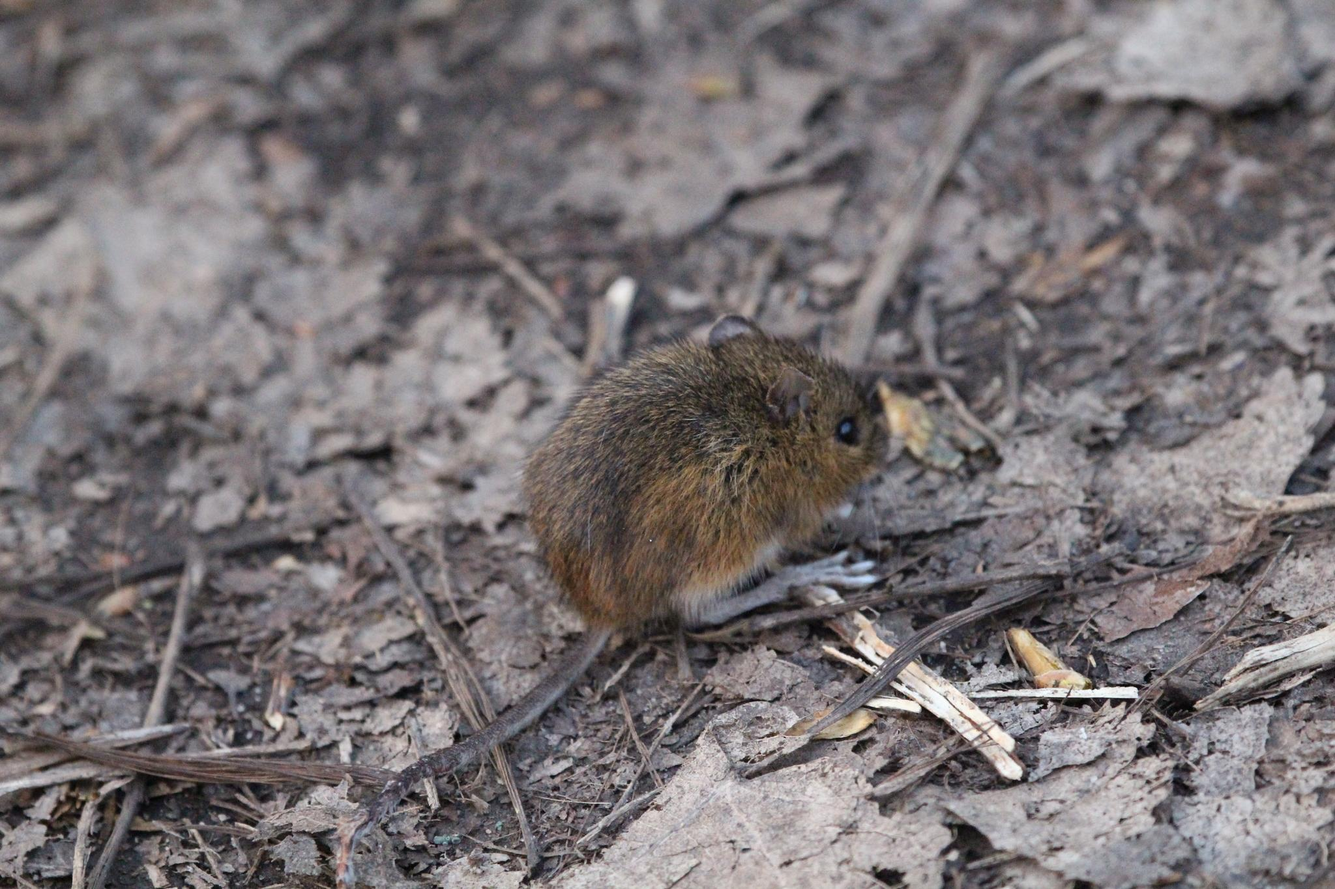rat: (531, 312, 892, 625)
